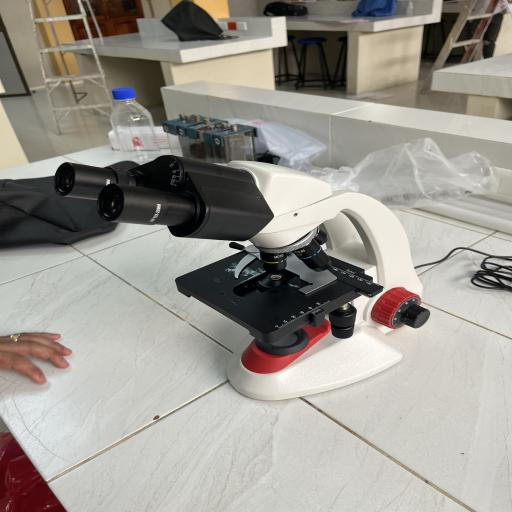Microscopio_Binocular: (43, 146, 441, 416)
